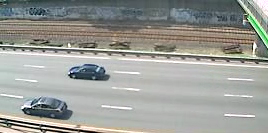car: (18, 93, 70, 120), (66, 62, 111, 82)
